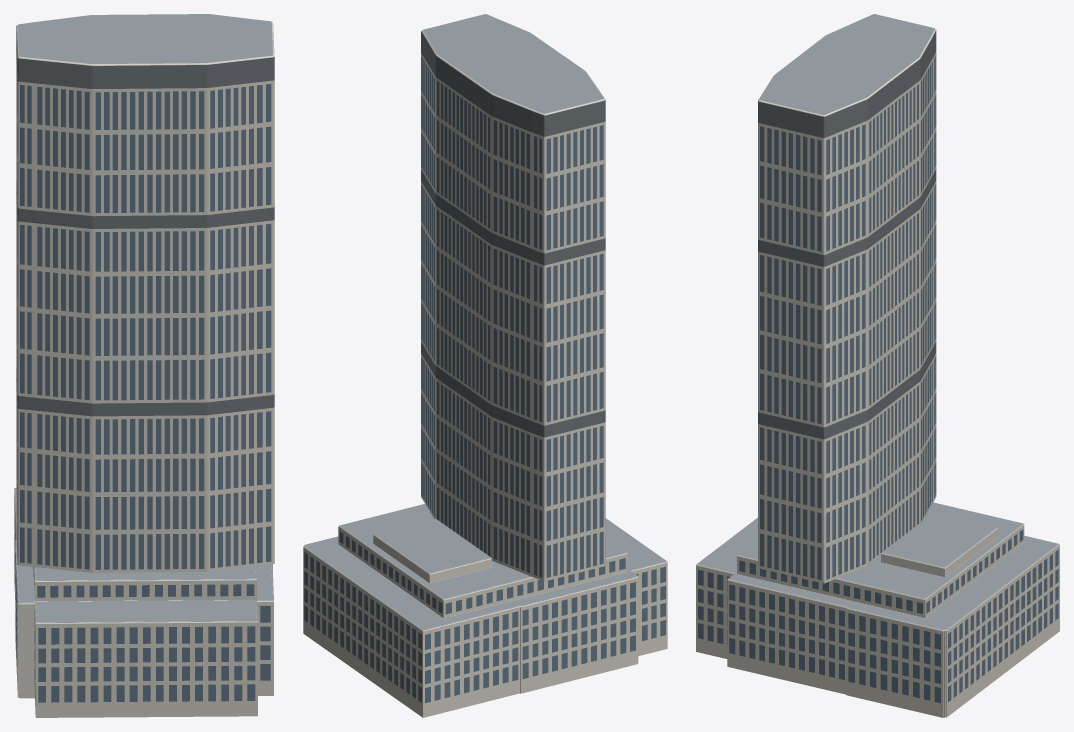
The model's file is detail.glb.
The picture shows the model from 3 angles, left to right: view 1: azimuth 30°, elevation 25°; view 2: azimuth 150°, elevation 25°; view 3: azimuth 270°, elevation 25°; orthographic projection. The views are drawn at different scales.
Parts seen in each view (by area): view 1: metlife-building; view 2: metlife-building; view 3: metlife-building.
Part boxes in pixels (x1,y1,x2,y2): metlife-building: [14, 14, 274, 717]; metlife-building: [303, 14, 667, 717]; metlife-building: [696, 14, 1059, 717].
Bounding box in the file's own units: 129 × 243 × 140.
